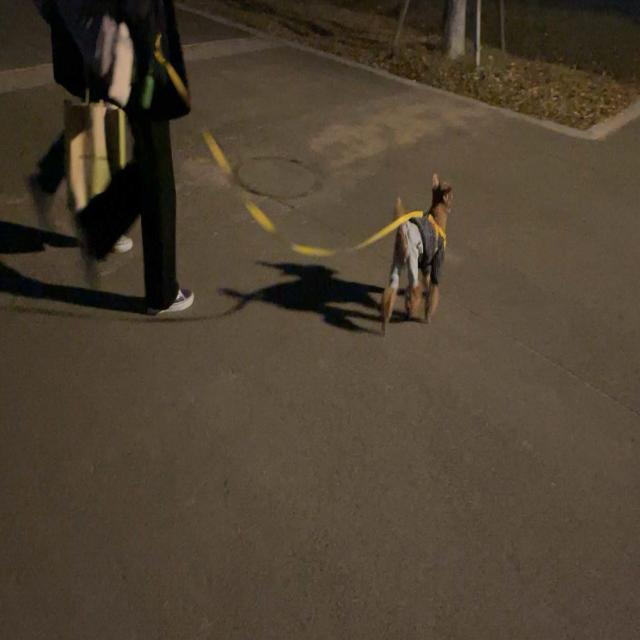Leashed_Dog: (143, 34, 452, 337)
